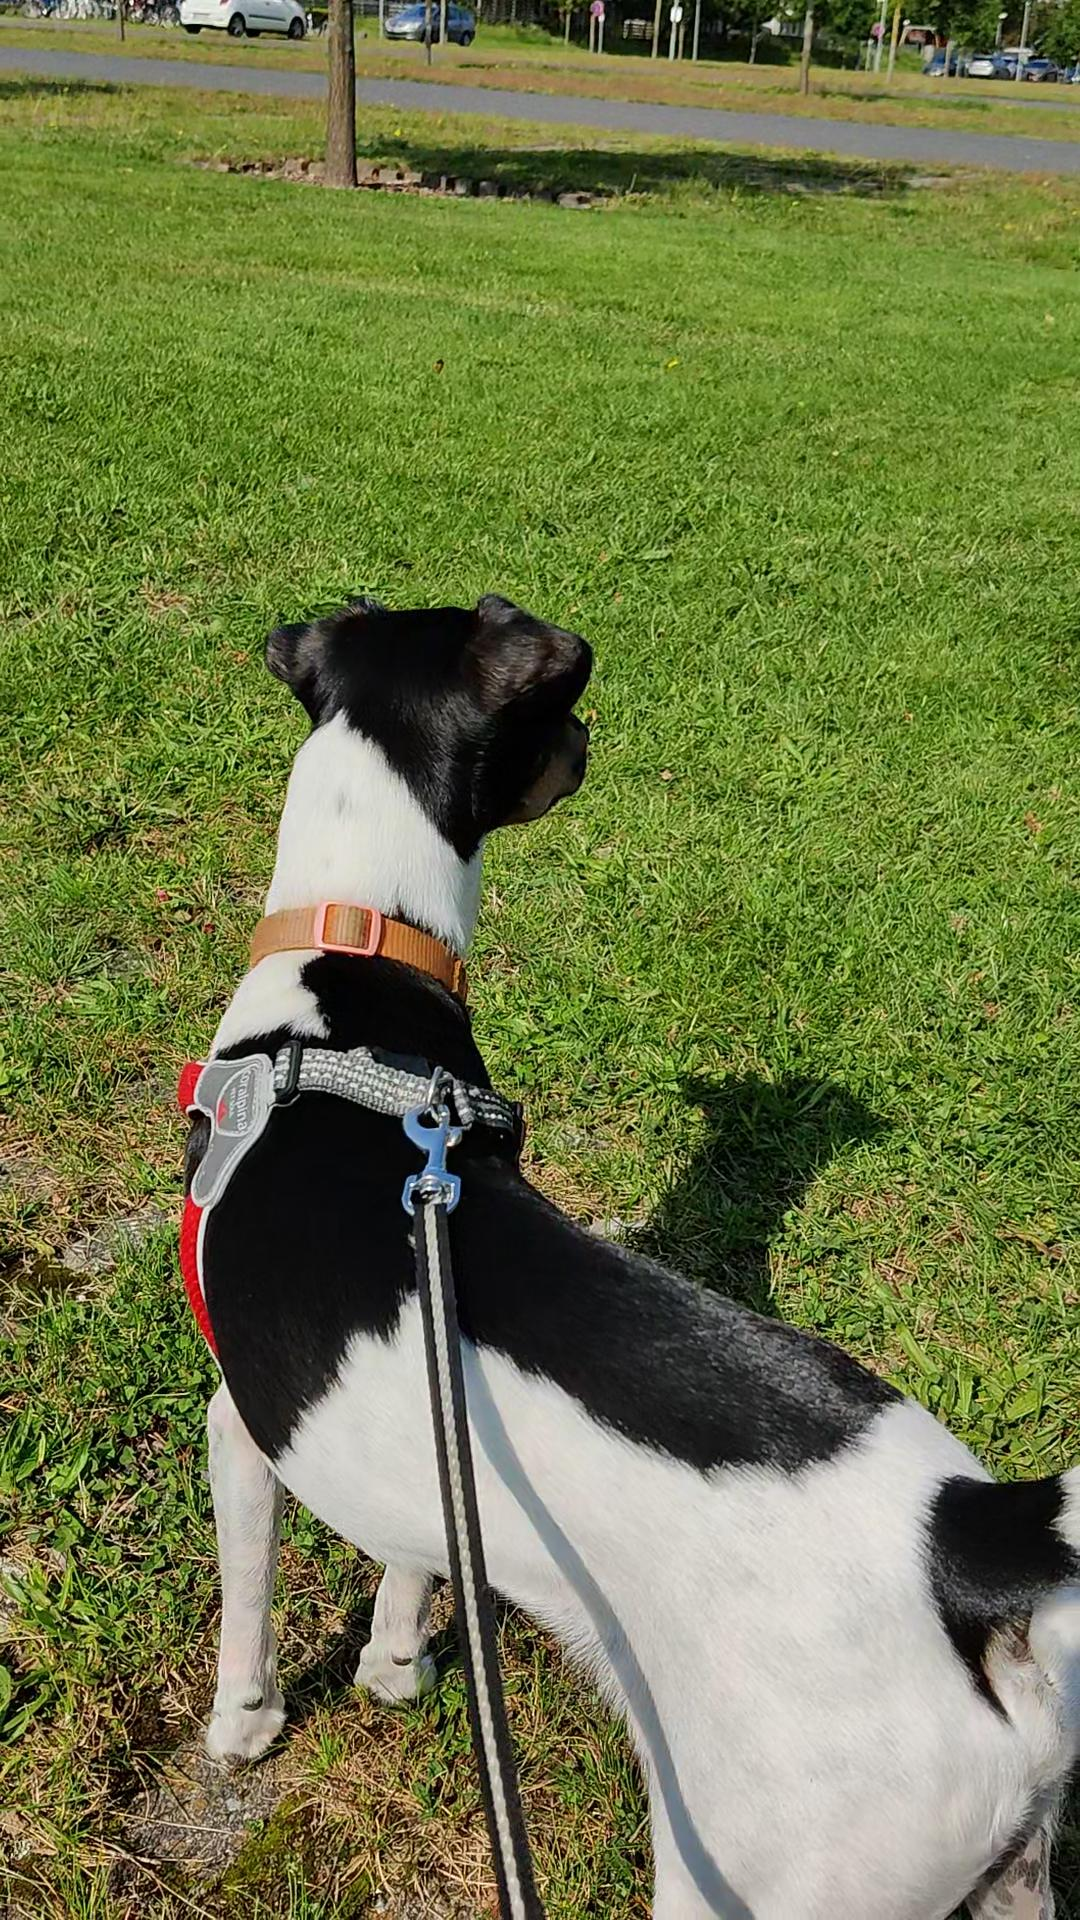Dog: (171, 585, 1079, 1919)
